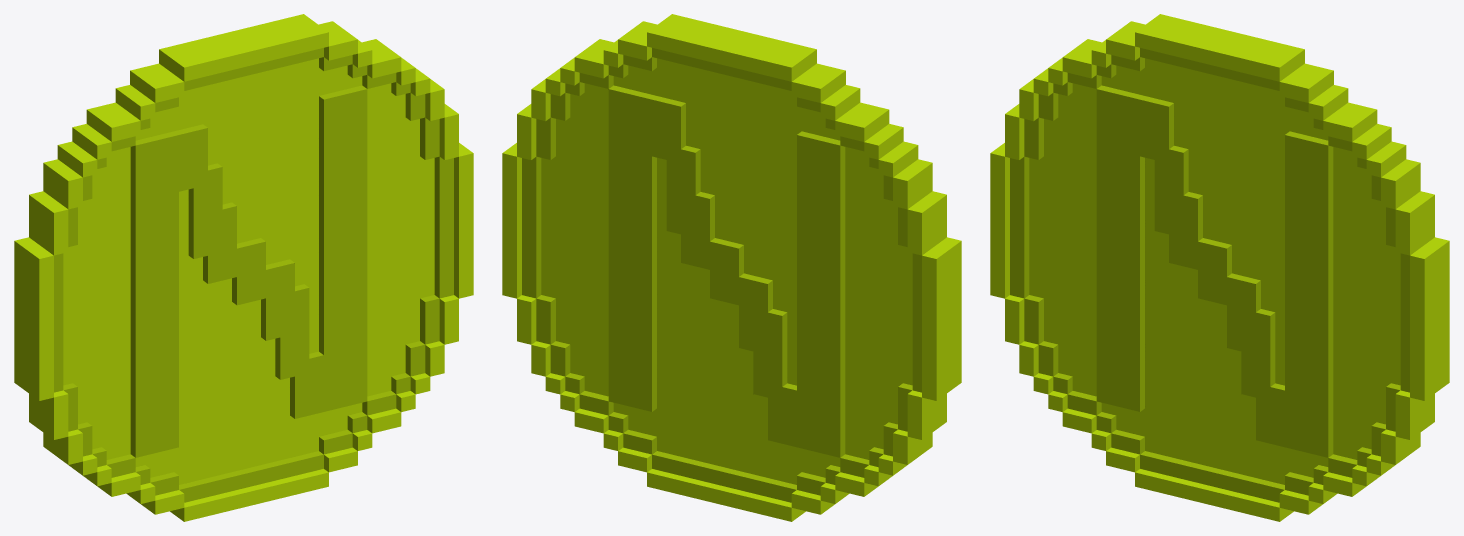
The model's file is Voxel_Coin_N.fbx.
3 renders of one model, left to right at view 1: azimuth 30°, elevation 25°; view 2: azimuth 150°, elevation 25°; view 3: azimuth 330°, elevation 25°, orthographic.
Parts seen in each view (by area): view 1: Coin N.001; view 2: Coin N.001; view 3: Coin N.001.
Boxes of the visible parts, <box> form: Coin N.001: <box>14,14,473,521</box>; Coin N.001: <box>502,14,961,521</box>; Coin N.001: <box>990,14,1449,521</box>.
Size of the model in its own units: 60.96 by 60.96 by 6.1.
1 material, 1 textured.
